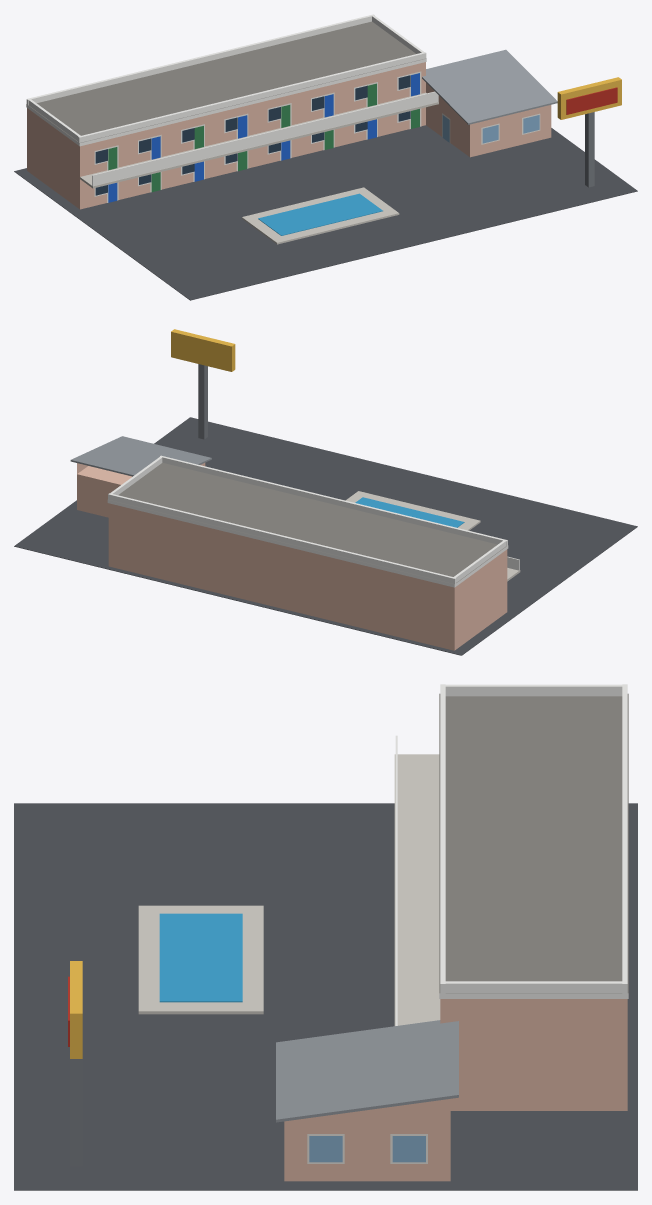
Rendered from motel.glb.
3 views of the same model, one above another, from view 1: azimuth 30°, elevation 25°; view 2: azimuth 150°, elevation 25°; view 3: azimuth 270°, elevation 25° (orthographic). The views are drawn at different scales.
Parts seen in each view (by area): view 1: motel; view 2: motel; view 3: motel.
Part boxes in pixels (bbox=[...]): motel: bbox=[14, 14, 637, 300]; motel: bbox=[14, 329, 637, 655]; motel: bbox=[14, 684, 637, 1190].
Bounding box in the file's own units: 44 × 9.4 × 30.
Materials: 1 (1 with a texture image).
